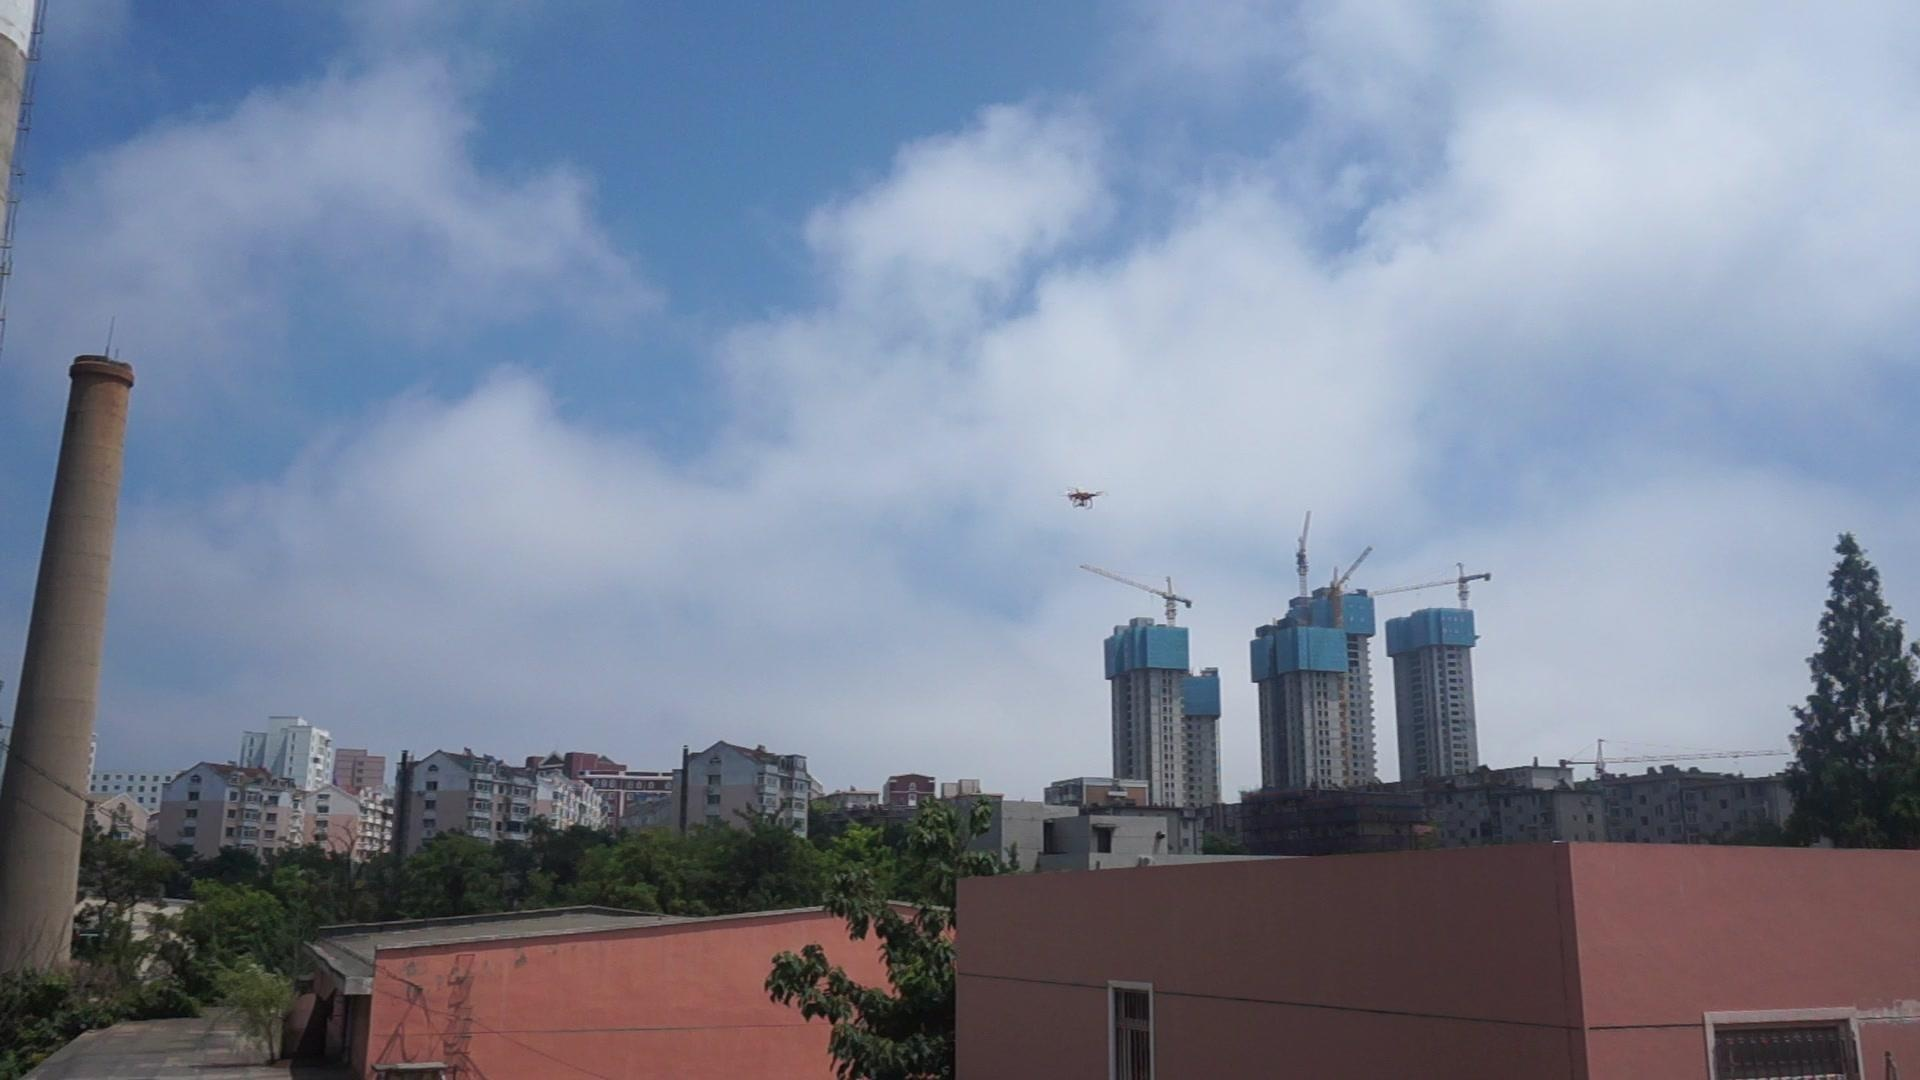UAV: (1062, 487, 1110, 509)
